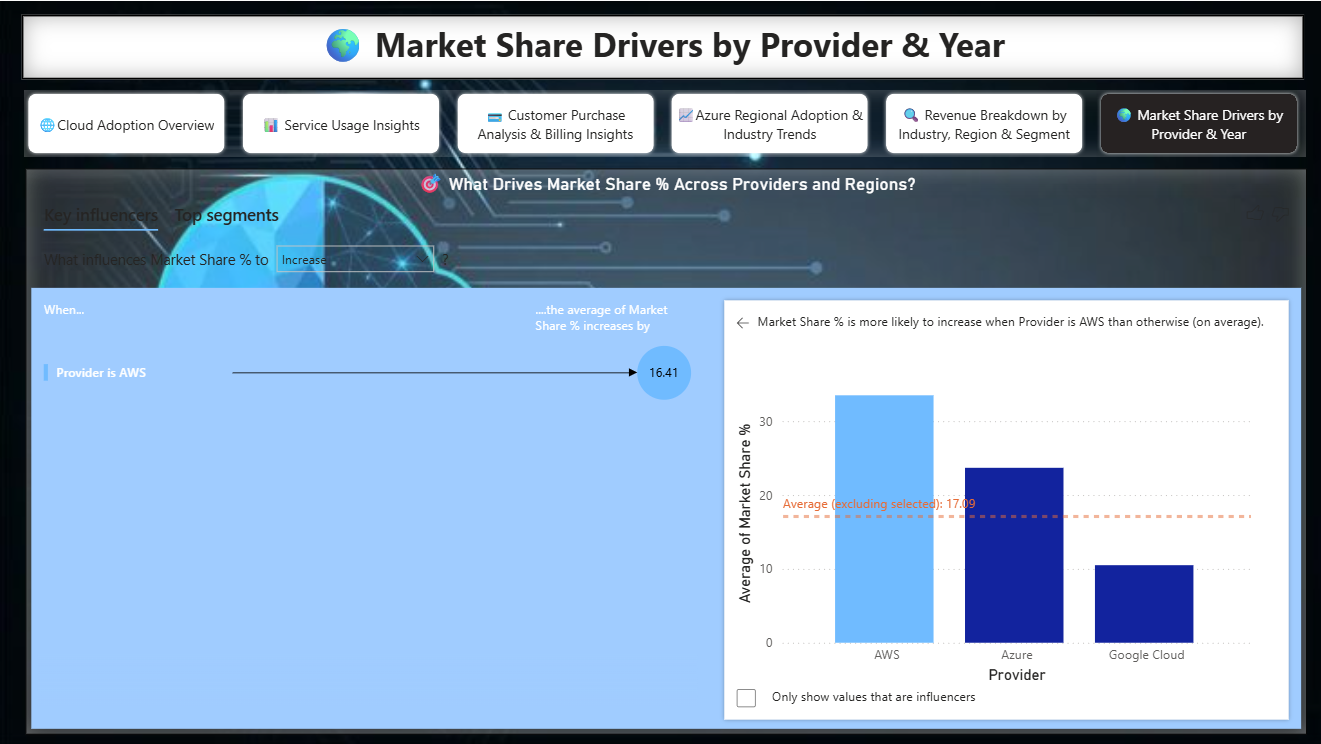

What the dashboard file says about the page in this screenshot:
{"tool":"powerbi","page":{"name":"🌍 Market Share Drivers by Provider & Year","canvas":[1280,720],"ordinal":5},"visuals":[{"type":"keyDriversVisual","title":"🎯 What Drives Market Share % Across Providers and Regions?","fields":{"Target":["azure_market_share.Market Share %"],"ExplainBy":["azure_market_share.Provider","azure_market_share.Year"]},"box":[26.5,161.7,1236.6,546.5],"z":0},{"type":"pageNavigator","box":[25.3,85.7,1236.6,65.1],"z":1000},{"type":"textbox","box":[22.9,13.3,1237.8,62.7],"z":2000}]}

Visuals, with their boxes on the page's 1280x720 design canvas (x1, y1, x2, y2). These are canvas units, not pixel positions in the 1321x744 screenshot, which may show the page scaled, cropped or inside an application window:
"🎯 What Drives Market Share % Across Providers and Regions?" keyDriversVisual: pyautogui.locateOnScreen(26, 162, 1263, 708)
pageNavigator: pyautogui.locateOnScreen(25, 86, 1262, 151)
textbox: pyautogui.locateOnScreen(23, 13, 1261, 76)
